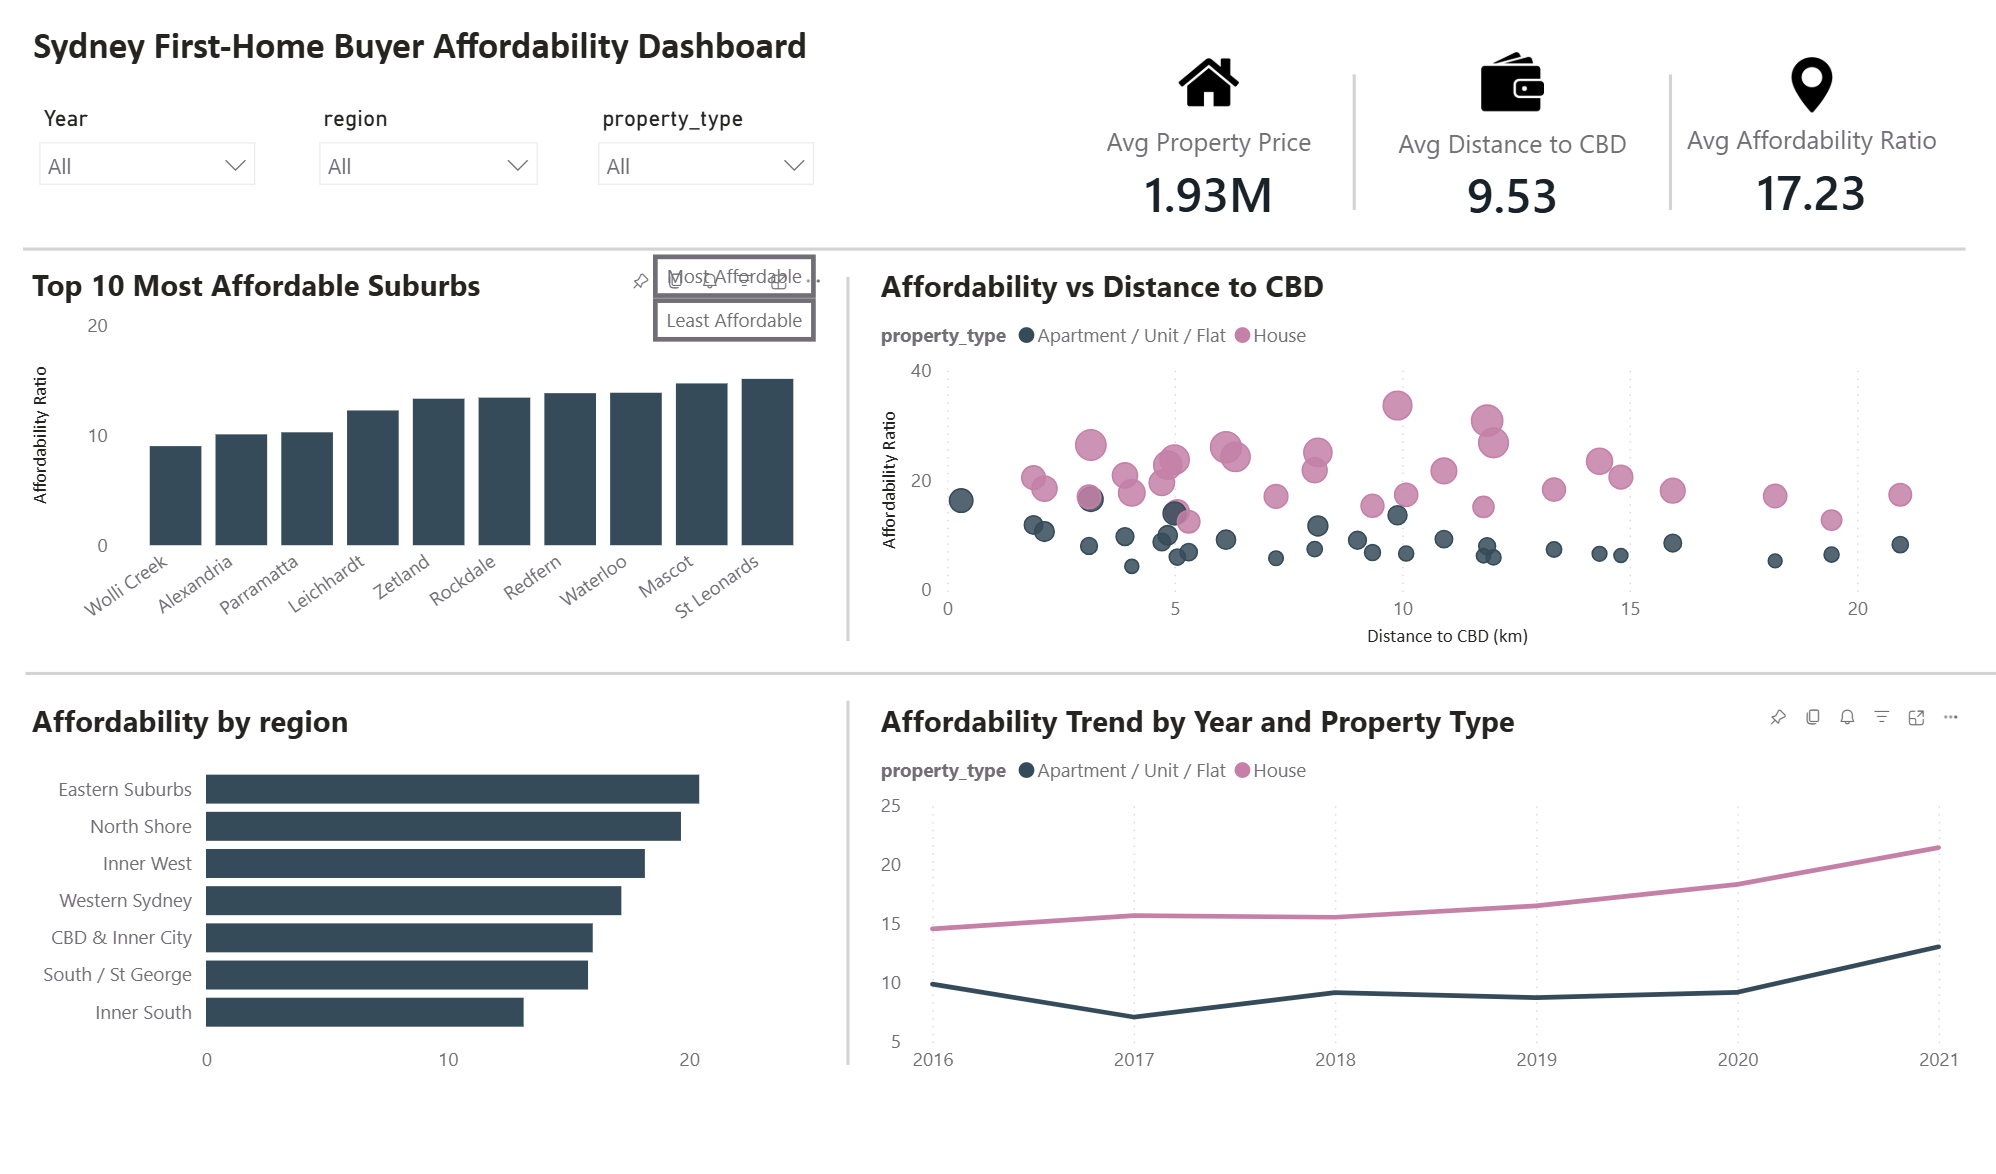

This screenshot's page, from the dashboard's own definition file:
{"tool":"powerbi","page":{"name":"Page 1","canvas":[1280,720],"ordinal":0},"visuals":[{"type":"slicer","fields":{"Values":["detail_clean.region"]},"box":[200.3,70.3,159.2,78.3],"z":0},{"type":"slicer","fields":{"Values":["detail_clean.property_type"]},"box":[378.1,70.3,157.9,62.4],"z":1000},{"type":"cardVisual","title":"Avg Affordability Ratio","fields":{"Data":["Avg(detail_clean.affordability_ratio)"]},"box":[1044.1,17.2,236.2,145.9],"z":2000},{"type":"cardVisual","title":"Avg Distance to CBD","fields":{"Data":["Avg(detail_clean.km_from_cbd)"]},"box":[847.8,13.3,248.1,153.9],"z":3000},{"type":"cardVisual","title":"Avg Property Price","fields":{"Data":["Avg(detail_clean.price)"]},"box":[663.4,14.6,229.5,151.2],"z":4000},{"type":"clusteredBarChart","title":"Affordability by region","fields":{"Category":["detail_clean.region"],"Y":["Avg(detail_clean.affordability_ratio)"]},"box":[23.3,454.8,512.6,246.8],"z":5000},{"type":"scatterChart","title":"Affordability vs Distance to CBD","fields":{"X":["Avg(detail_clean.km_from_cbd)"],"Y":["Avg(detail_clean.affordability_ratio)"],"Series":["detail_clean.property_type"],"Category":["detail_clean.suburb"],"Size":["Avg(detail_clean.price)"]},"box":[563.7,177.9,697.2,248],"z":6000},{"type":"clusteredColumnChart","title":"Top 10 Most Affordable Suburbs","fields":{"Y":["Avg(detail_clean.affordability_ratio)"],"Category":["detail_clean.suburb"]},"box":[23.3,176.8,512.6,249.1],"z":7000},{"type":"textbox","box":[23.9,17.2,522.7,49.1],"z":8000},{"type":"lineChart","title":"Affordability Trend by Year and Property Type","fields":{"Category":["detail_clean.Year"],"Y":["Avg(detail_clean.affordability_ratio)"],"Series":["detail_clean.property_type"]},"box":[563.7,454.8,697.2,246.8],"z":9000},{"type":"slicer","fields":{"Values":["detail_clean.Year"]},"box":[22.6,70.3,157.9,62.4],"z":10000},{"type":"shape","box":[23.9,425.9,1256.4,22.6],"z":11000},{"type":"shape","box":[22.6,149.9,1237.8,34.5],"z":12000},{"type":"shape","box":[516.1,184.4,63.7,232.2],"z":13000},{"type":"shape","box":[516.1,455.1,63.7,232.2],"z":14000},{"type":"shape","box":[838.5,55.7,63.7,86.2],"z":15000},{"type":"shape","box":[1040.1,55.7,63.7,86.2],"z":16000},{"type":"actionButton","box":[424.1,198.2,103.7,27.7],"z":18000},{"type":"actionButton","box":[424.1,170.5,103.7,27.7],"z":19000}]}

Visuals, with their boxes on the page's 1280x720 design canvas (x1, y1, x2, y2). These are canvas units, not pixel positions in the 1996x1174 screenshot, which may show the page scaled, cropped or inside an application window:
slicer - detail_clean.region: {"left": 200, "top": 70, "right": 360, "bottom": 149}
slicer - detail_clean.property_type: {"left": 378, "top": 70, "right": 536, "bottom": 133}
"Avg Affordability Ratio" cardVisual: {"left": 1044, "top": 17, "right": 1280, "bottom": 163}
"Avg Distance to CBD" cardVisual: {"left": 848, "top": 13, "right": 1096, "bottom": 167}
"Avg Property Price" cardVisual: {"left": 663, "top": 15, "right": 893, "bottom": 166}
"Affordability by region" clusteredBarChart: {"left": 23, "top": 455, "right": 536, "bottom": 702}
"Affordability vs Distance to CBD" scatterChart: {"left": 564, "top": 178, "right": 1261, "bottom": 426}
"Top 10 Most Affordable Suburbs" clusteredColumnChart: {"left": 23, "top": 177, "right": 536, "bottom": 426}
textbox: {"left": 24, "top": 17, "right": 547, "bottom": 66}
"Affordability Trend by Year and Property Type" lineChart: {"left": 564, "top": 455, "right": 1261, "bottom": 702}
slicer - detail_clean.Year: {"left": 23, "top": 70, "right": 180, "bottom": 133}
shape: {"left": 24, "top": 426, "right": 1280, "bottom": 448}
shape: {"left": 23, "top": 150, "right": 1260, "bottom": 184}
shape: {"left": 516, "top": 184, "right": 580, "bottom": 417}
shape: {"left": 516, "top": 455, "right": 580, "bottom": 687}
shape: {"left": 838, "top": 56, "right": 902, "bottom": 142}
shape: {"left": 1040, "top": 56, "right": 1104, "bottom": 142}
actionButton: {"left": 424, "top": 198, "right": 528, "bottom": 226}
actionButton: {"left": 424, "top": 170, "right": 528, "bottom": 198}
